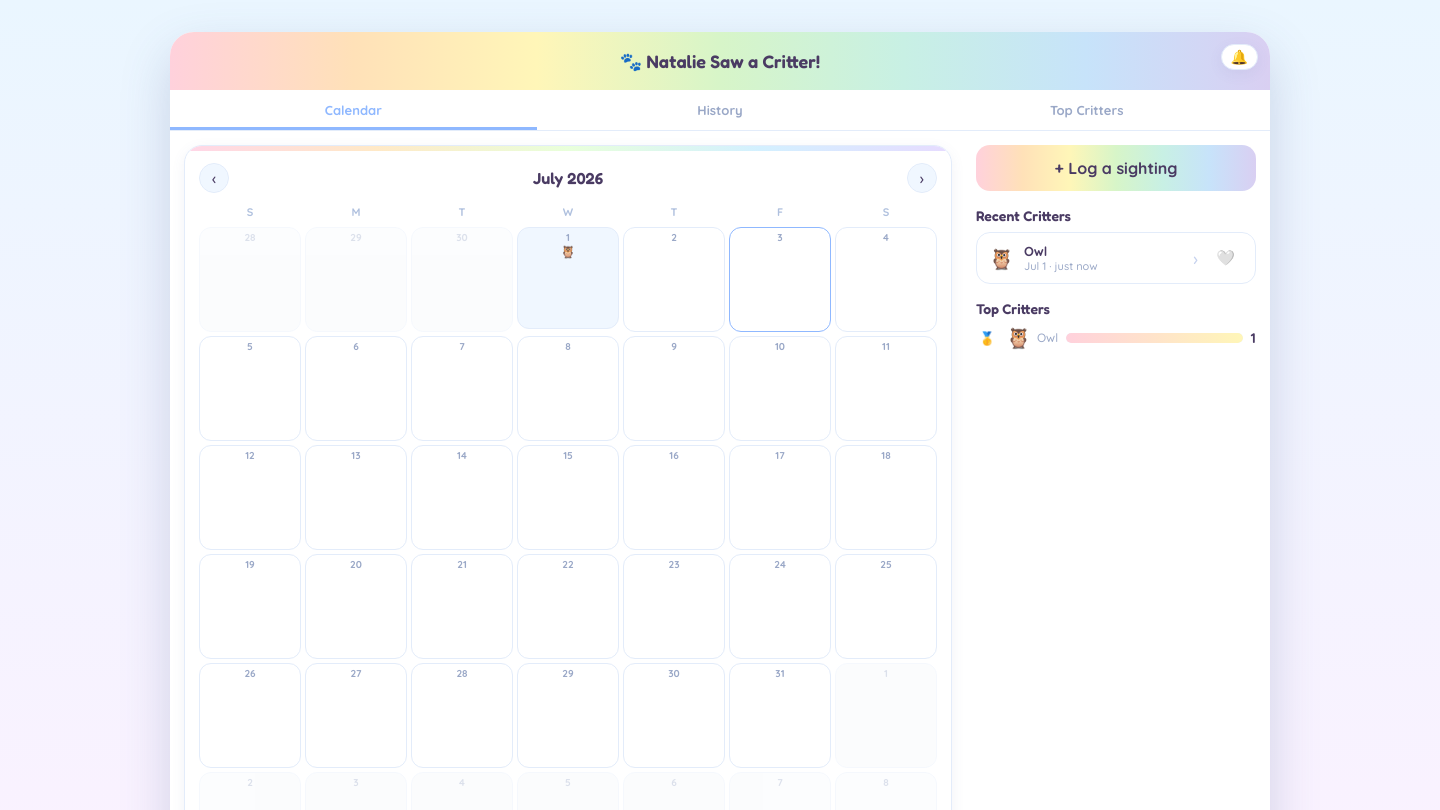
Test: calendar navigation and delete › recent critters row opens sighting detail; back closes (no fromDay)
What coordinates should you click on to do the following:
click the button "🦉 Owl Jul 1 · just now ›"
I would click on:
 (1094, 258)
Its box is [989,243,1198,273].
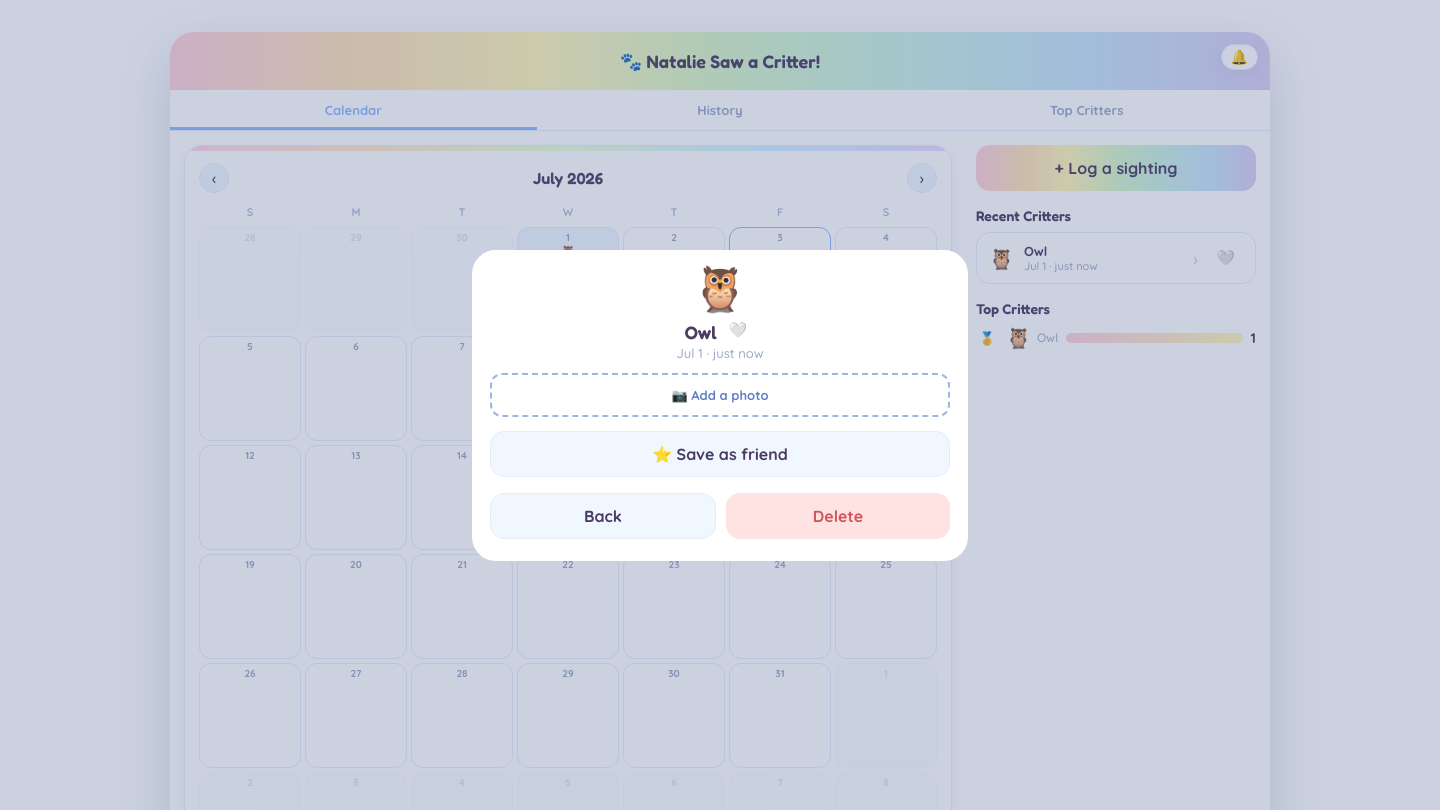
Check: the dialog is shown, box [472,250,968,560]
What coordinates should you click on to do the following:
click the button "Back"
I would click on:
 (603, 516)
Its box is [490,492,716,538].
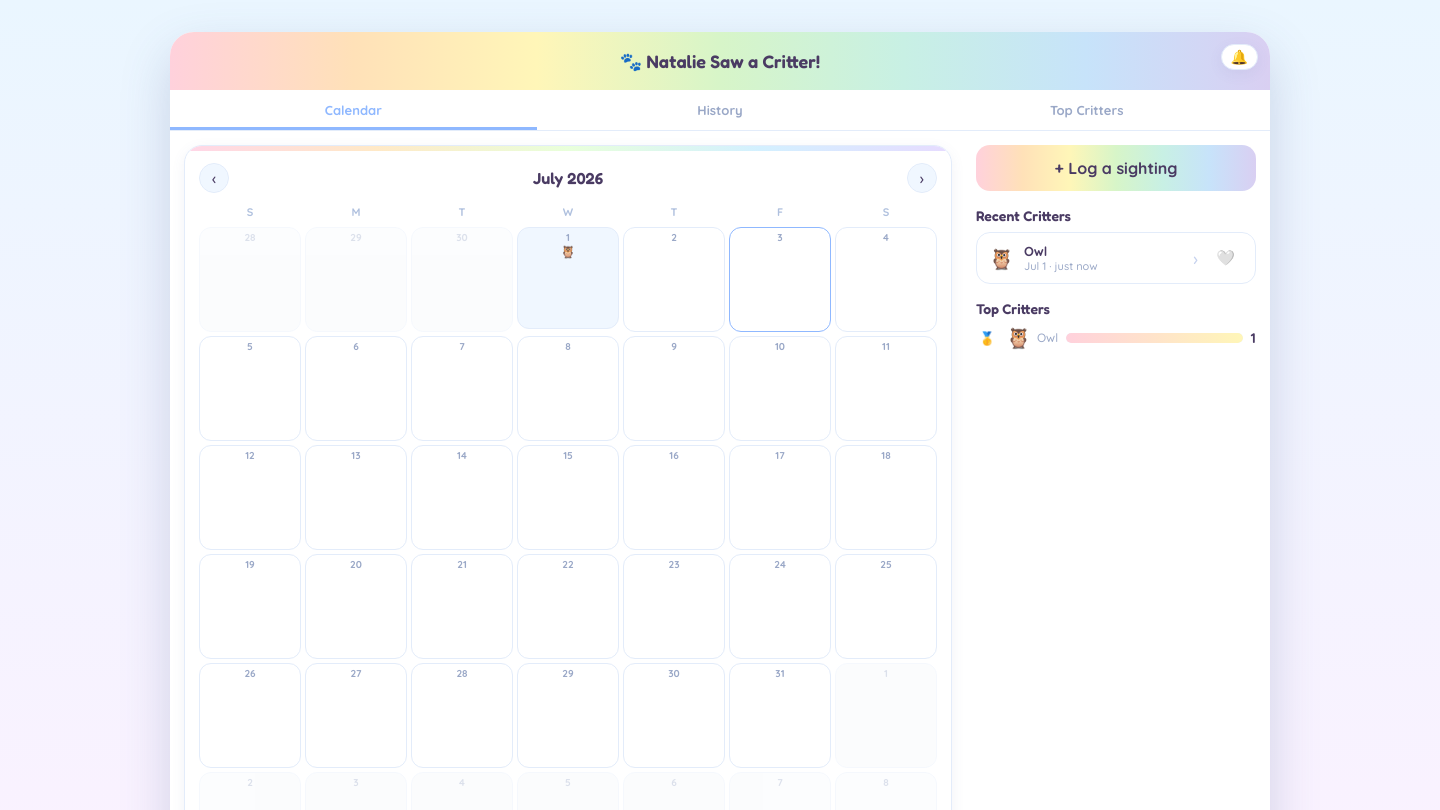
Check: the dialog is gone
